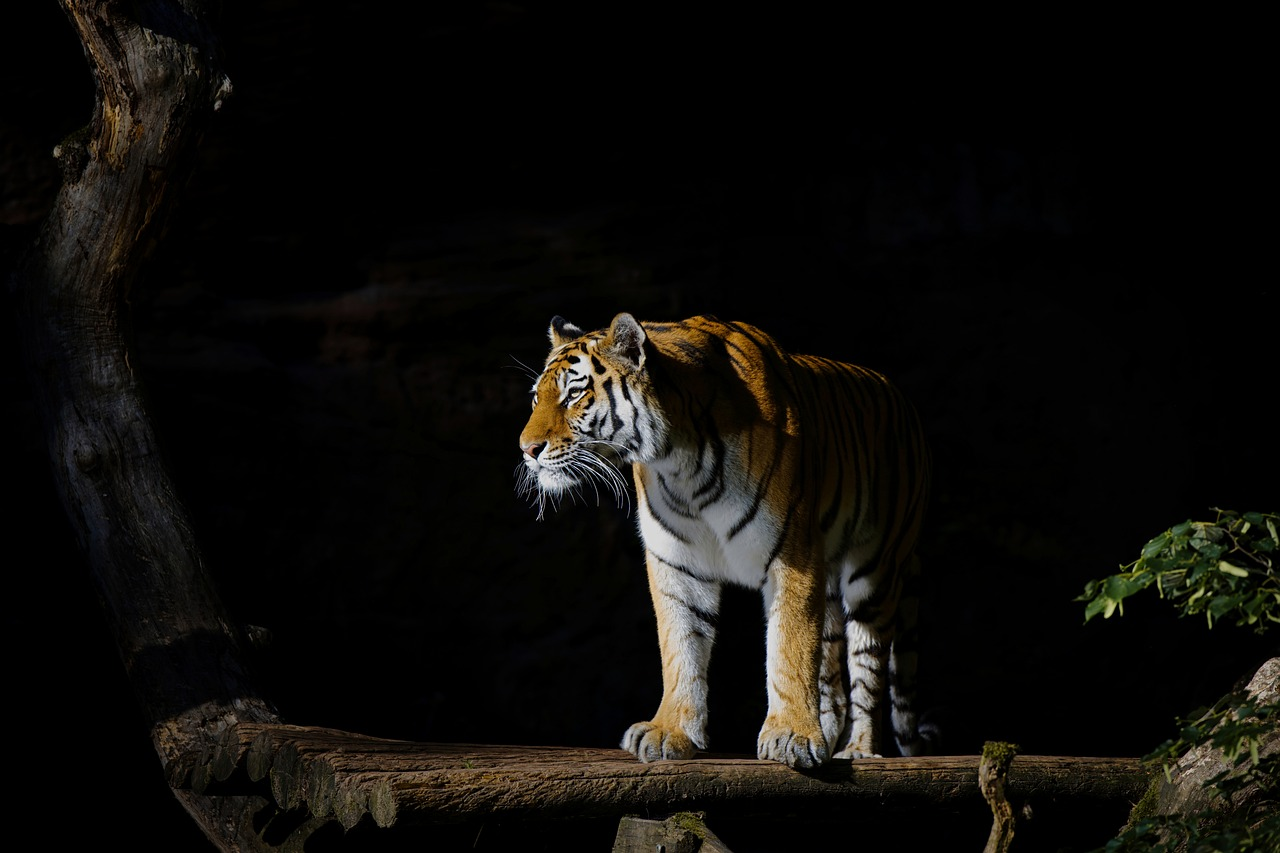tiger: (480, 280, 708, 514)
